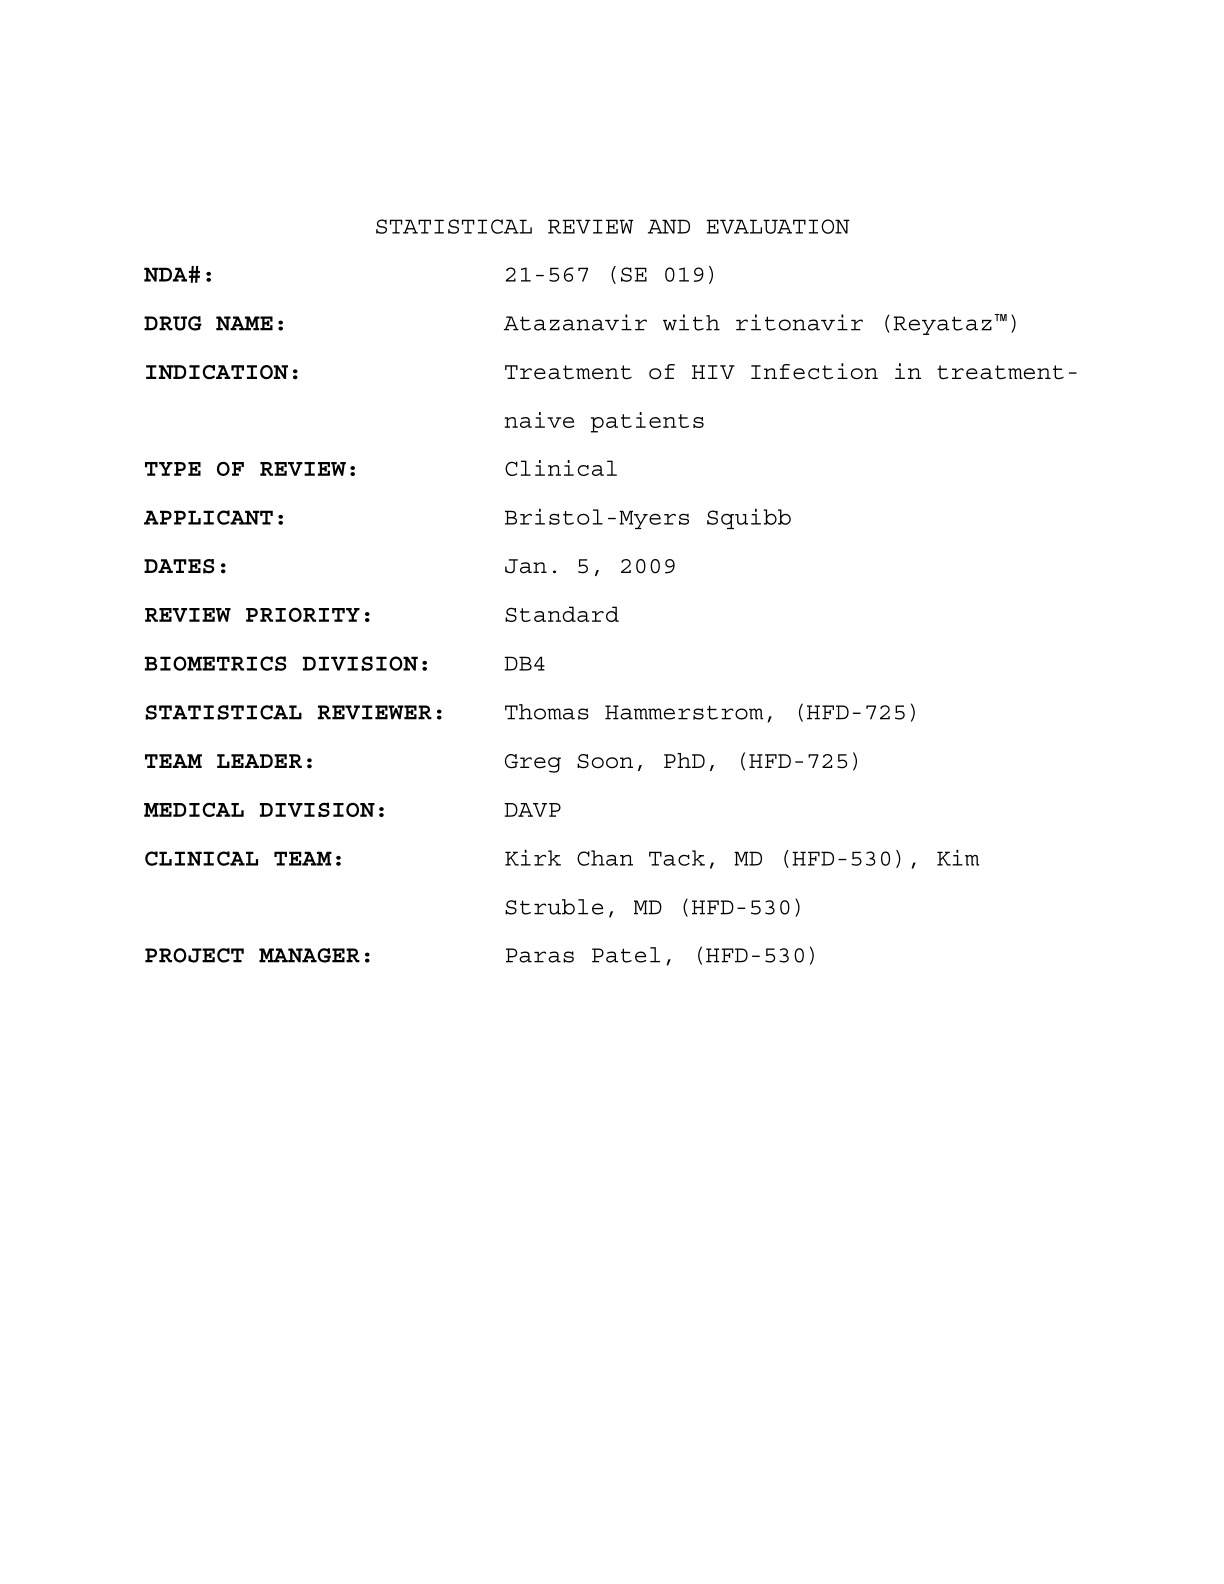nolines: (141, 264, 1080, 967)
